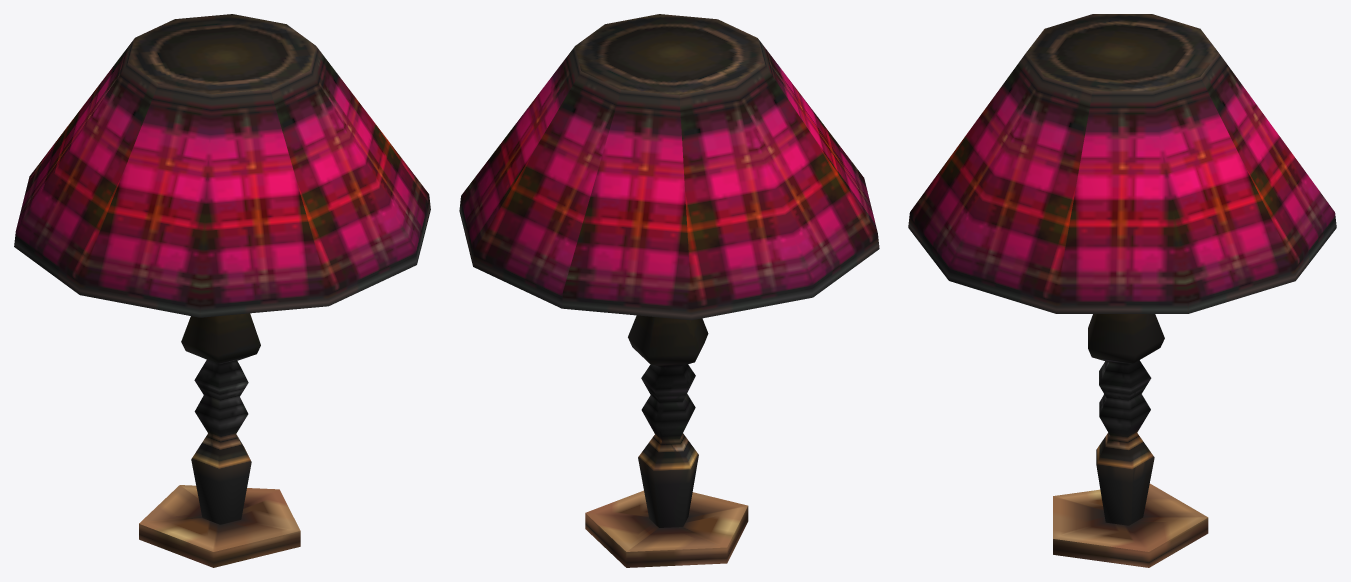
Rendered from furni_0200300_01.FBX.
The picture shows the model from 3 angles, left to right: view 1: azimuth 30°, elevation 25°; view 2: azimuth 150°, elevation 25°; view 3: azimuth 270°, elevation 25°; orthographic projection.
Visible parts, largest first — view 1: furni_0200300_01; view 2: furni_0200300_01; view 3: furni_0200300_01.
Part boxes in pixels (bbox=[...]): furni_0200300_01: bbox=[14, 14, 430, 567]; furni_0200300_01: bbox=[459, 14, 879, 567]; furni_0200300_01: bbox=[908, 14, 1336, 567].
Size of the model in its own units: 52.89 by 68.78 by 55.59.
